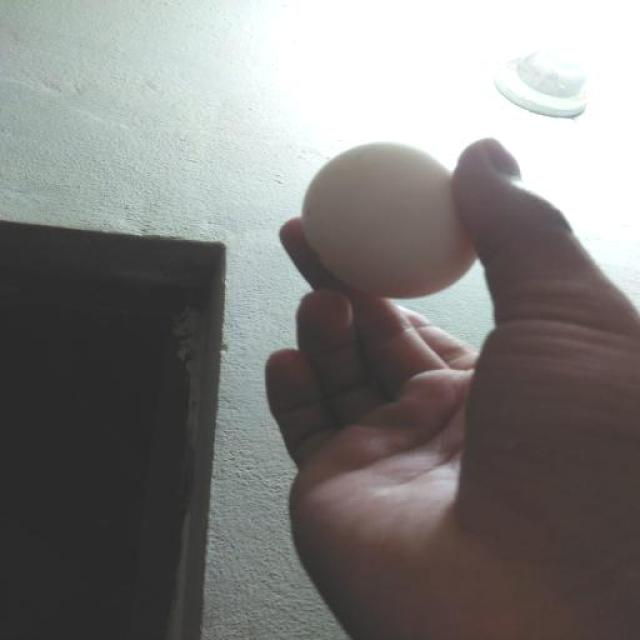telur: (301, 142, 477, 299)
